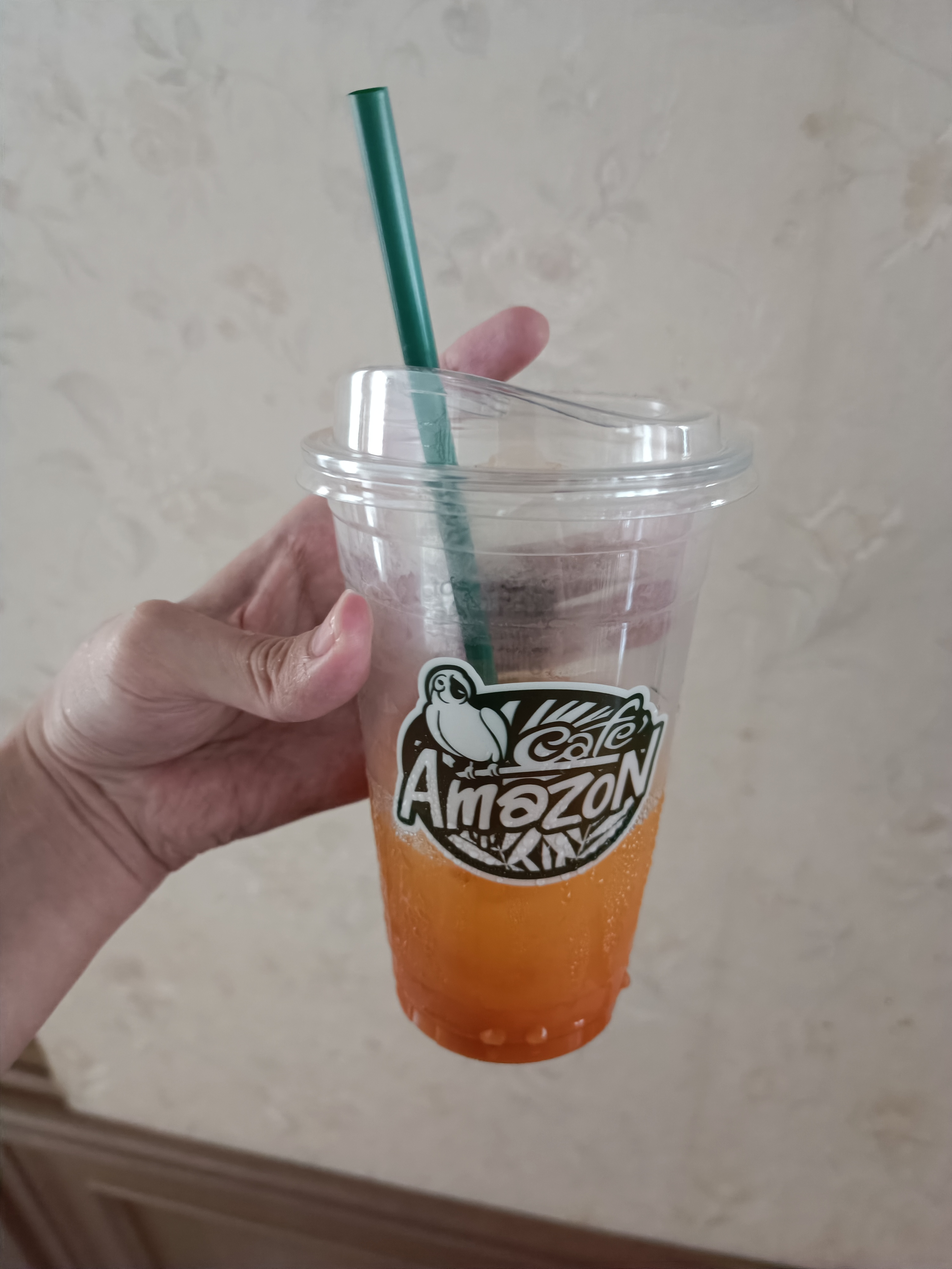plastic: (262, 57, 749, 1078)
